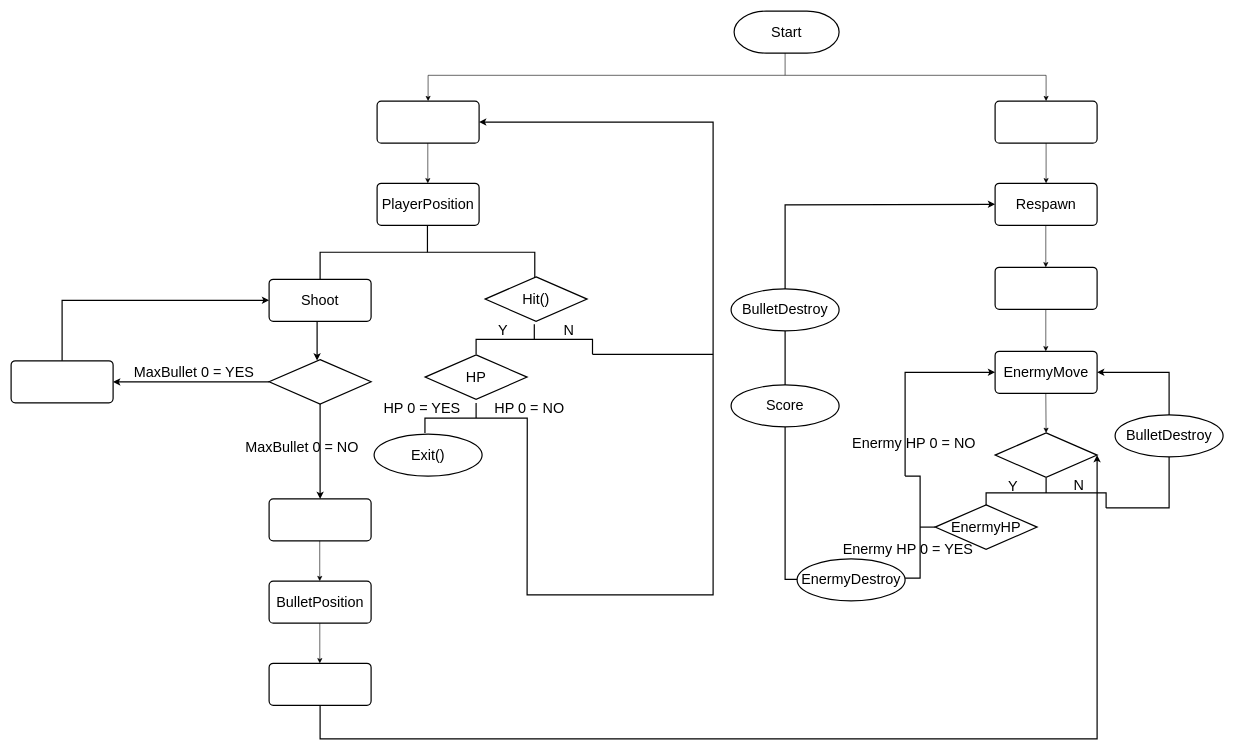
This 1234x754 diagram has some shape labels left out. Here are the shapes that lost their labels. From the top down, the centre of each, then its label:
the point at 427,121: Player
the point at 1045,121: Time
the point at 1045,288: EnermyPosition
the point at 61,381: Reload
the point at 319,381: MaxBullet
the point at 1045,455: GetHit()
the point at 319,519: BulletRespawn
the point at 319,684: BulletMove()
